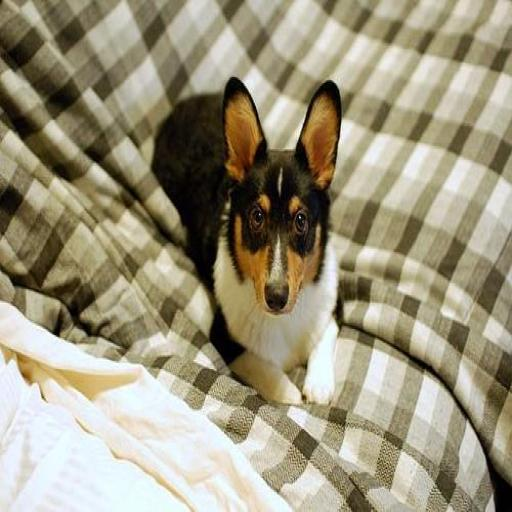dog_face: (220, 72, 339, 322)
